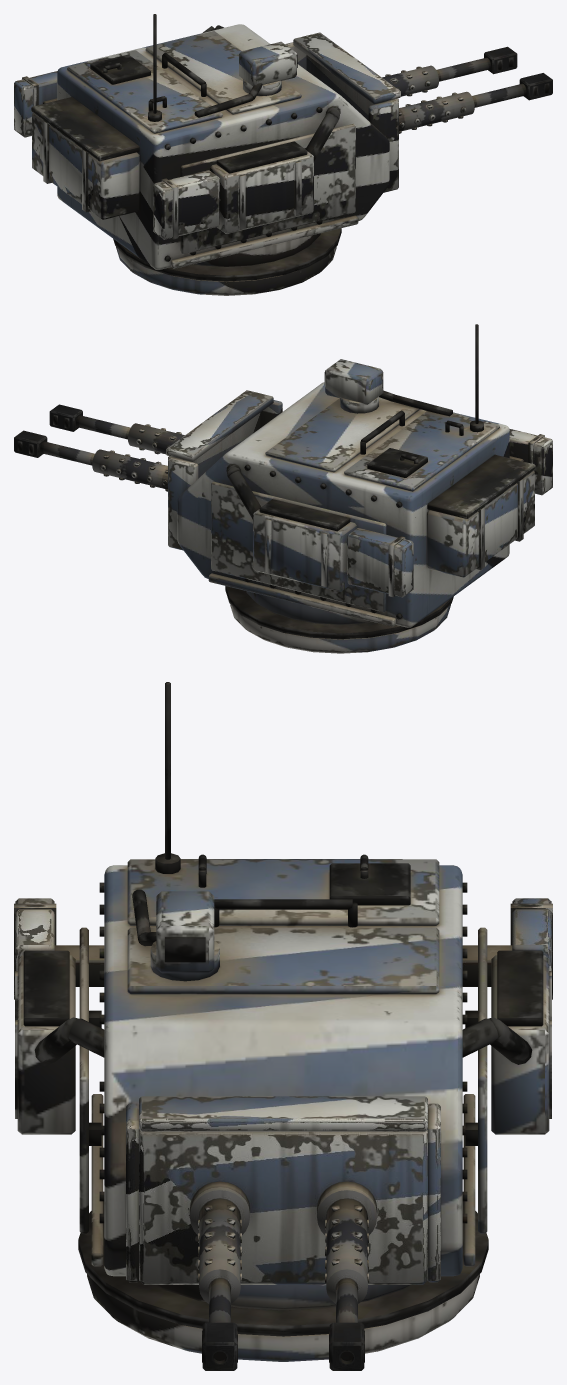
The model's file is turret_grach_t3_dazzle.glb.
The picture shows the model from 3 angles, top to bottom: view 1: azimuth 30°, elevation 25°; view 2: azimuth 150°, elevation 25°; view 3: azimuth 270°, elevation 25°; orthographic projection. The views are drawn at different scales.
Parts seen in each view (by area): view 1: turret_light_t3, guns, pods; view 2: turret_light_t3, guns, pods; view 3: turret_light_t3, guns, pods.
Boxes of the visible parts, box(x1,y1,x2,y2) form: turret_light_t3: box(31, 14, 389, 295); guns: box(285, 32, 552, 192); pods: box(14, 71, 220, 239); turret_light_t3: box(177, 324, 535, 653); guns: box(14, 390, 282, 550); pods: box(346, 428, 552, 597); turret_light_t3: box(15, 682, 551, 1361); guns: box(126, 1096, 440, 1370); pods: box(14, 898, 552, 999).
Size of the model in its own units: 1.86 by 1.09 by 1.05.
Materials: 3 (3 with a texture image).
